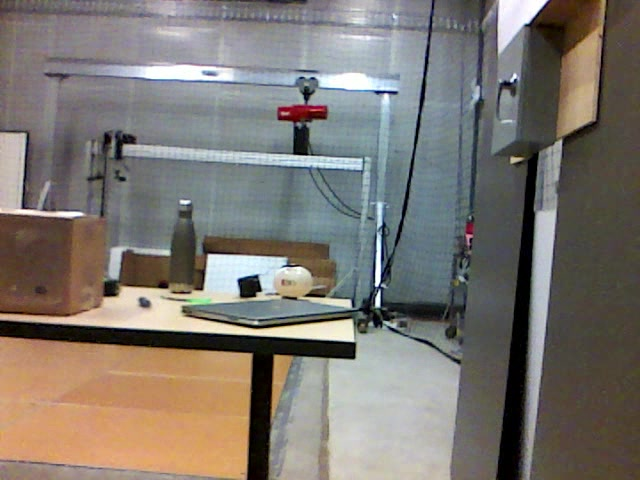box: (1, 210, 105, 316)
